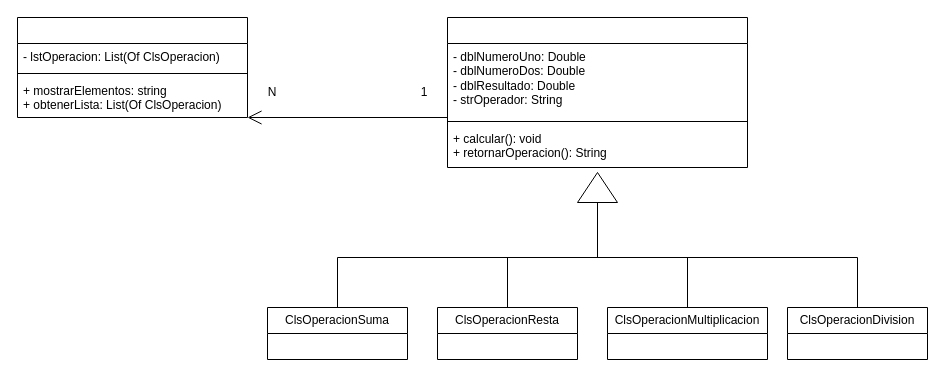
Image size: 945x377. Some labels were removed from this diagram. The shapes that lost their labels are listed below. From the top down, each one's box as (x1, y1, x2, y2) in pixels, then its label:
(16, 16, 248, 118): ClsHistorialDeOperaciones
(446, 16, 748, 168): ClsOperacion
